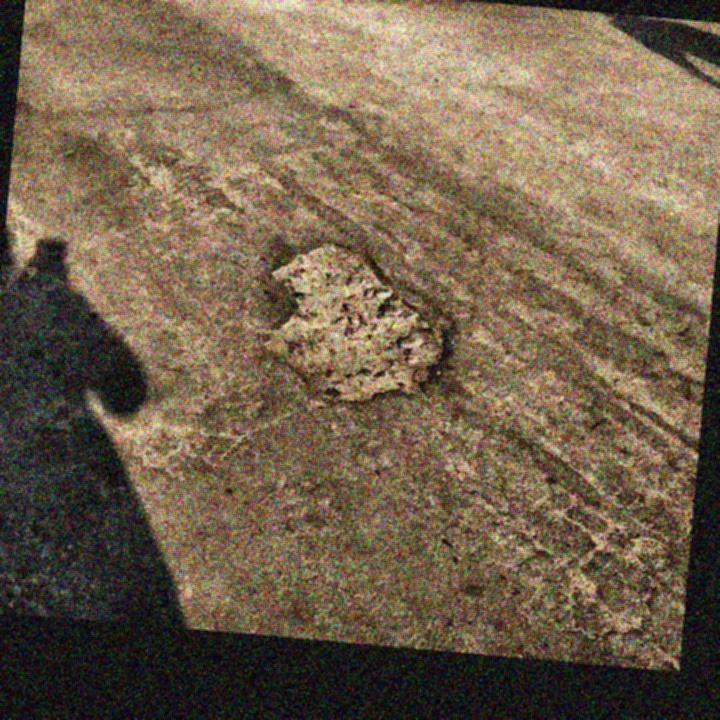pothole: (257, 235, 462, 415)
